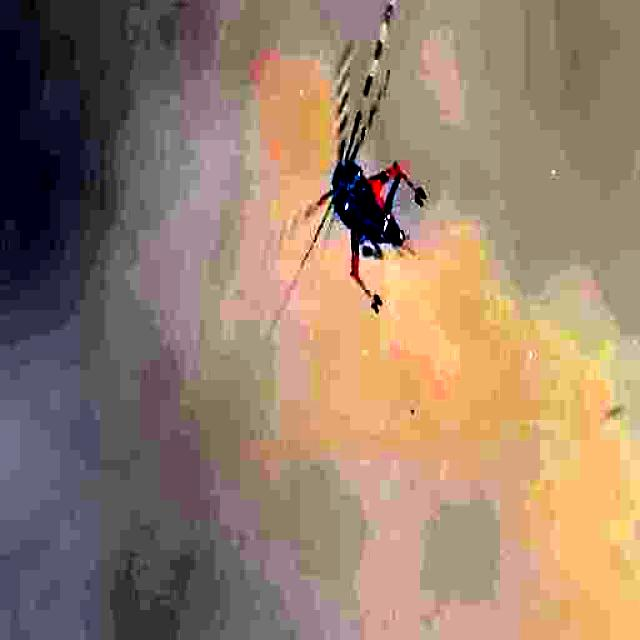drone: (301, 49, 436, 320)
